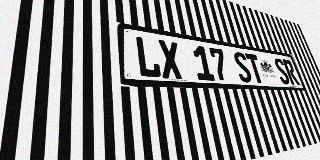1: (191, 45, 215, 81)
7: (208, 47, 231, 82)
L: (134, 36, 162, 78)
R: (282, 59, 300, 85)
S: (232, 51, 253, 83), (273, 57, 291, 85)
T: (245, 53, 265, 83)
X: (157, 39, 183, 79)
